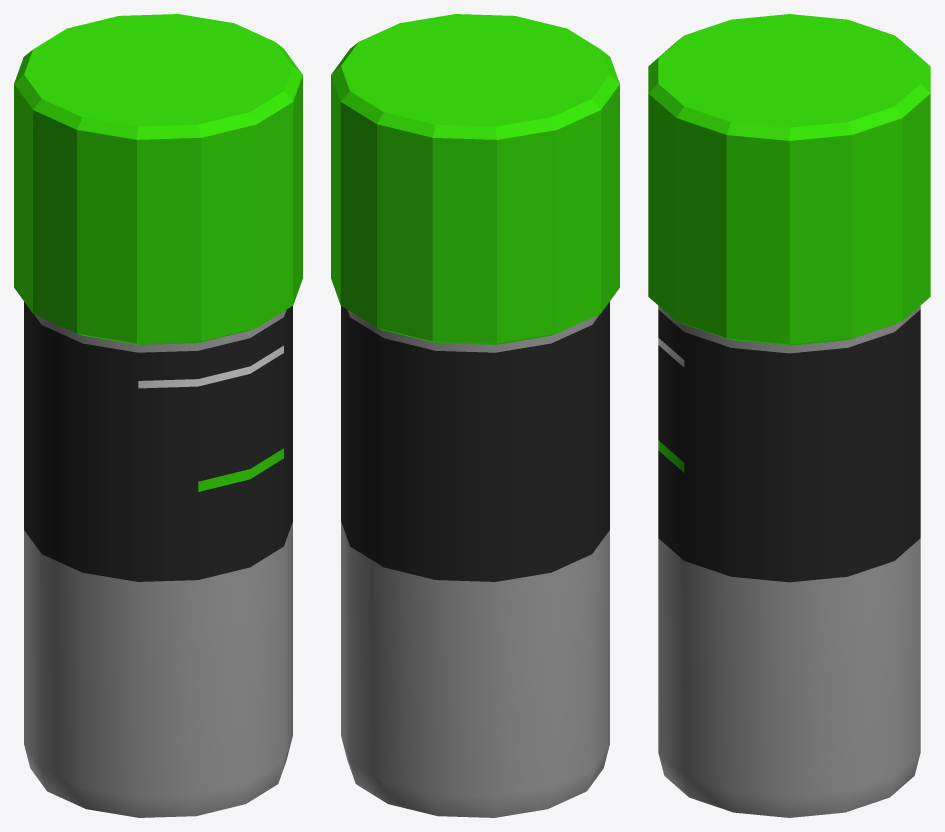
File: SprayPaint_Green.fbx
3 renders of one model, left to right at view 1: azimuth 30°, elevation 25°; view 2: azimuth 150°, elevation 25°; view 3: azimuth 270°, elevation 25°, orthographic.
Parts seen in each view (by area): view 1: pCylinder4; view 2: pCylinder4; view 3: pCylinder4.
Boxes of the visible parts, x1,y1,x2,y2 form: pCylinder4: [14, 14, 302, 817]; pCylinder4: [331, 14, 619, 817]; pCylinder4: [648, 14, 930, 817].
Bounding box in the file's own units: 3.04 × 8.04 × 2.97.
